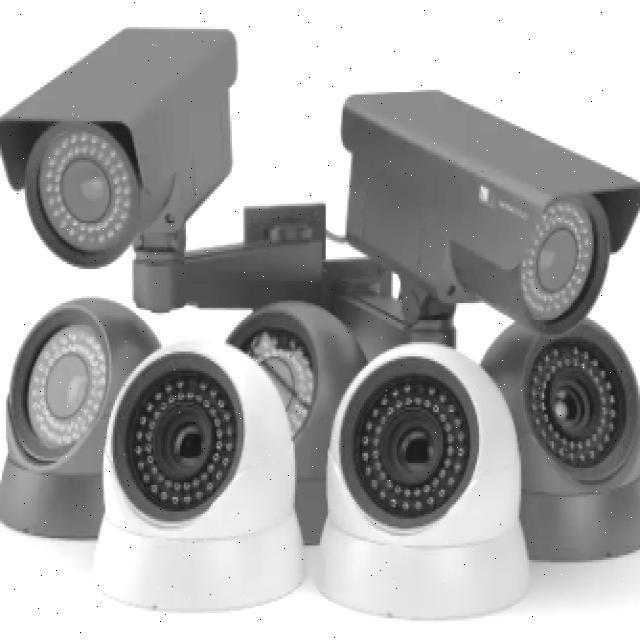cctv: (327, 379, 504, 542), (74, 356, 229, 537), (9, 93, 150, 269), (473, 165, 615, 325), (5, 327, 96, 498), (527, 363, 640, 480)
